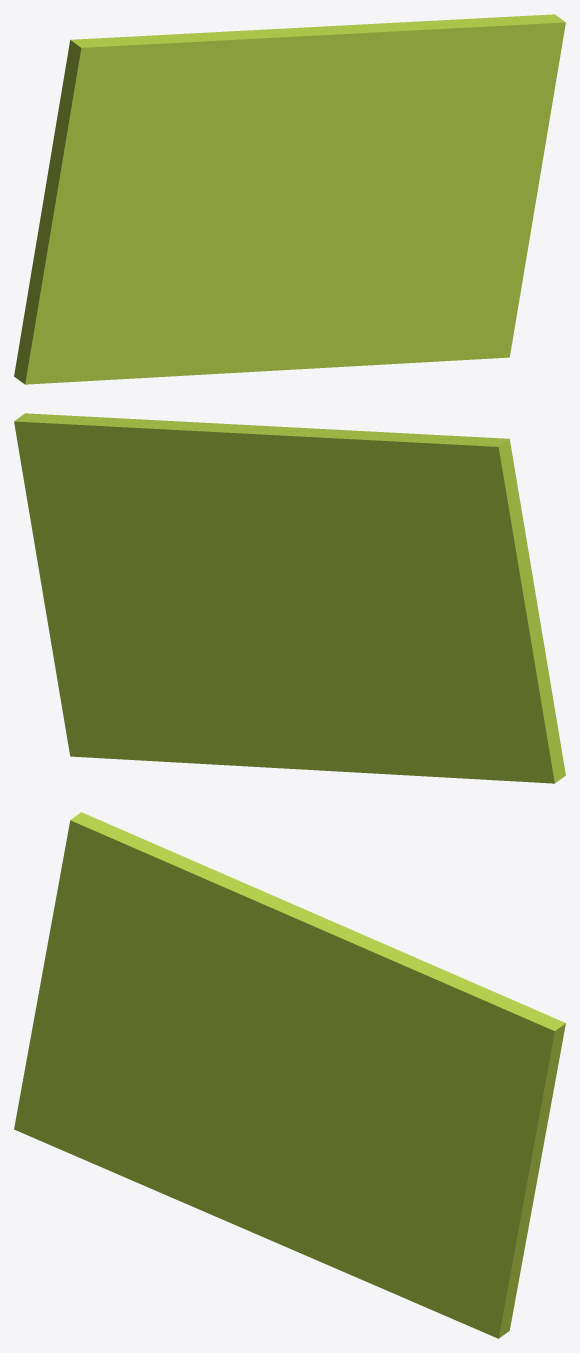
3 views of the same model, one above another, from view 1: azimuth 30°, elevation 25°; view 2: azimuth 150°, elevation 25°; view 3: azimuth 330°, elevation 25° (orthographic).
Parts seen in each view (by area): view 1: osm-way27917482-F2; view 2: osm-way27917482-F2; view 3: osm-way27917482-F2.
Part boxes in pixels (x1,y1,x2,y2): osm-way27917482-F2: (14, 14, 565, 384); osm-way27917482-F2: (14, 413, 565, 783); osm-way27917482-F2: (14, 812, 565, 1338).
Bounding box in the file's own units: 4.21 × 3.08 × 0.15.
